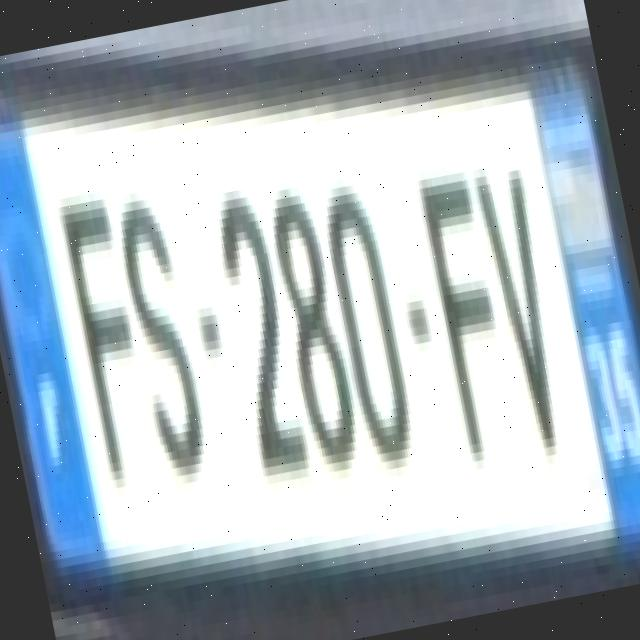EU: (0, 72, 640, 555)
France: (0, 132, 107, 566)
